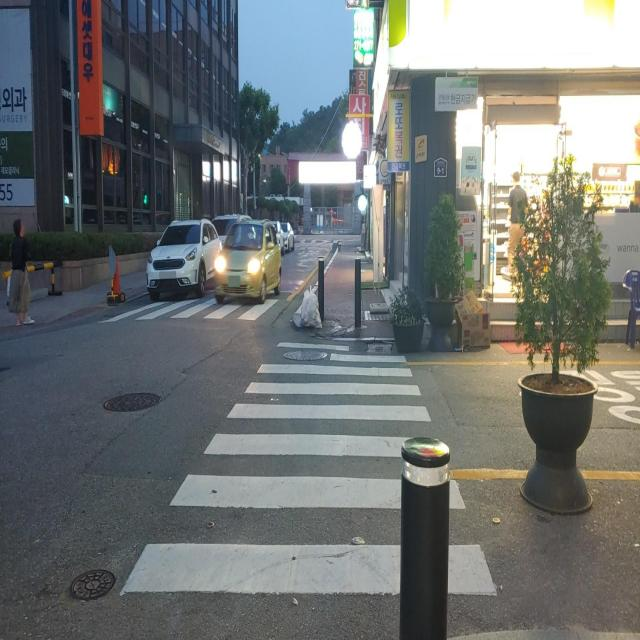횡단보도: (119, 338, 498, 599), (94, 297, 287, 326)
